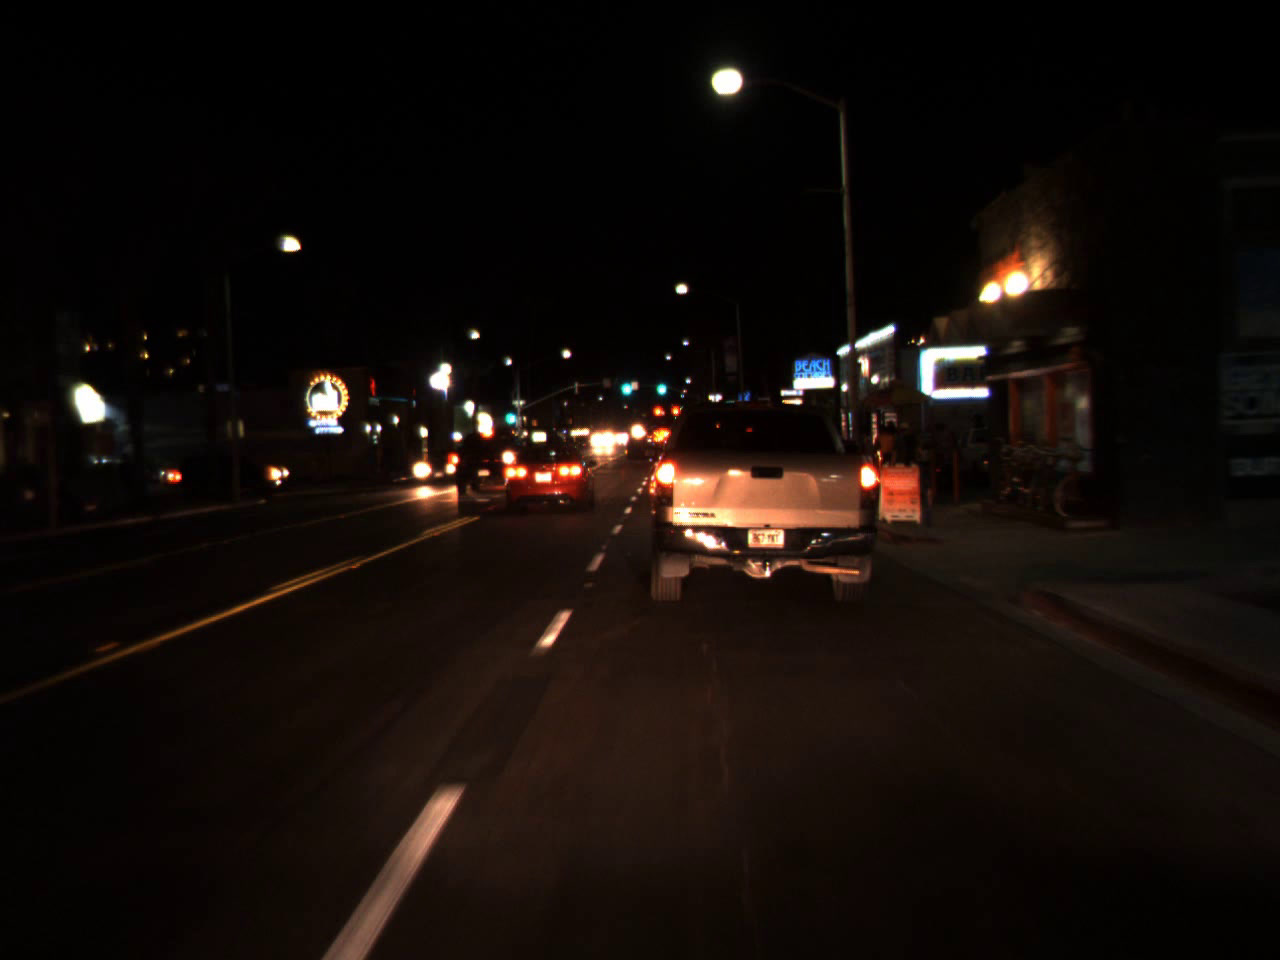go: (617, 369, 635, 399), (501, 399, 519, 429), (654, 371, 668, 398)
